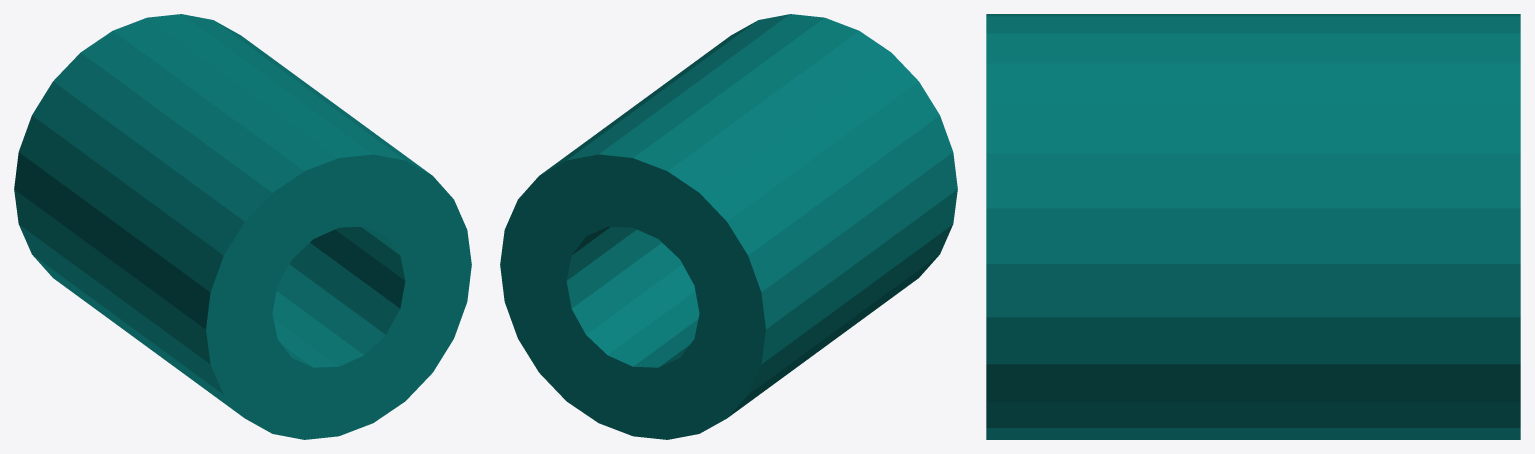
The model's file is kit_coupler_8.obj.
The picture shows the model from 3 angles, left to right: view 1: azimuth 30°, elevation 25°; view 2: azimuth 150°, elevation 25°; view 3: azimuth 270°, elevation 25°; orthographic projection. The views are drawn at different scales.
Parts seen in each view (by area): view 1: kit_coupler_8; view 2: kit_coupler_8; view 3: kit_coupler_8.
Part boxes in pixels (x1,y1,x2,y2): kit_coupler_8: (14, 14, 471, 439); kit_coupler_8: (500, 14, 957, 439); kit_coupler_8: (986, 14, 1520, 439).
Bounding box in the file's own units: 0.016 × 0.016 × 0.02.
